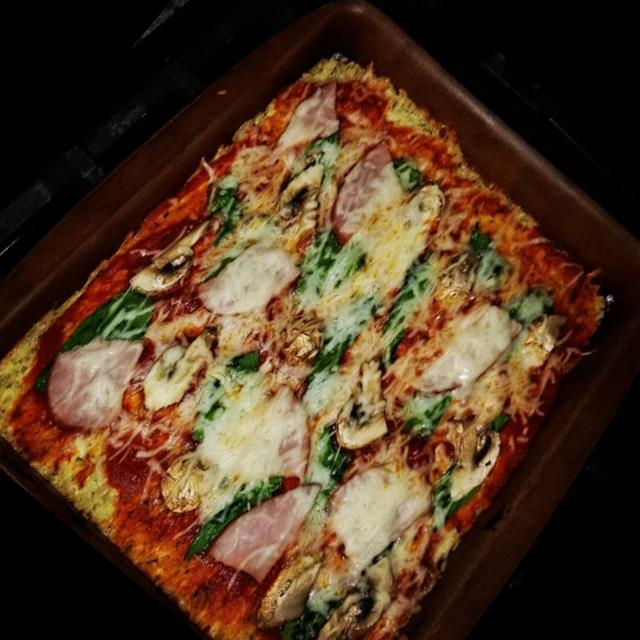mushrooms: (122, 202, 224, 310), (300, 548, 415, 640), (242, 538, 340, 640), (422, 414, 512, 508), (322, 384, 402, 466), (150, 442, 223, 518), (267, 160, 339, 236), (424, 247, 490, 316), (511, 304, 572, 370), (272, 311, 334, 375), (395, 179, 454, 240)
peppers: (36, 269, 162, 404), (176, 450, 292, 578), (364, 248, 459, 355), (177, 338, 269, 442), (280, 218, 372, 312), (290, 422, 374, 506), (291, 321, 368, 405), (393, 382, 460, 454), (418, 465, 484, 534), (202, 182, 262, 244), (508, 278, 558, 330), (390, 153, 432, 195), (317, 126, 351, 160)
pizza: (0, 54, 605, 640)
